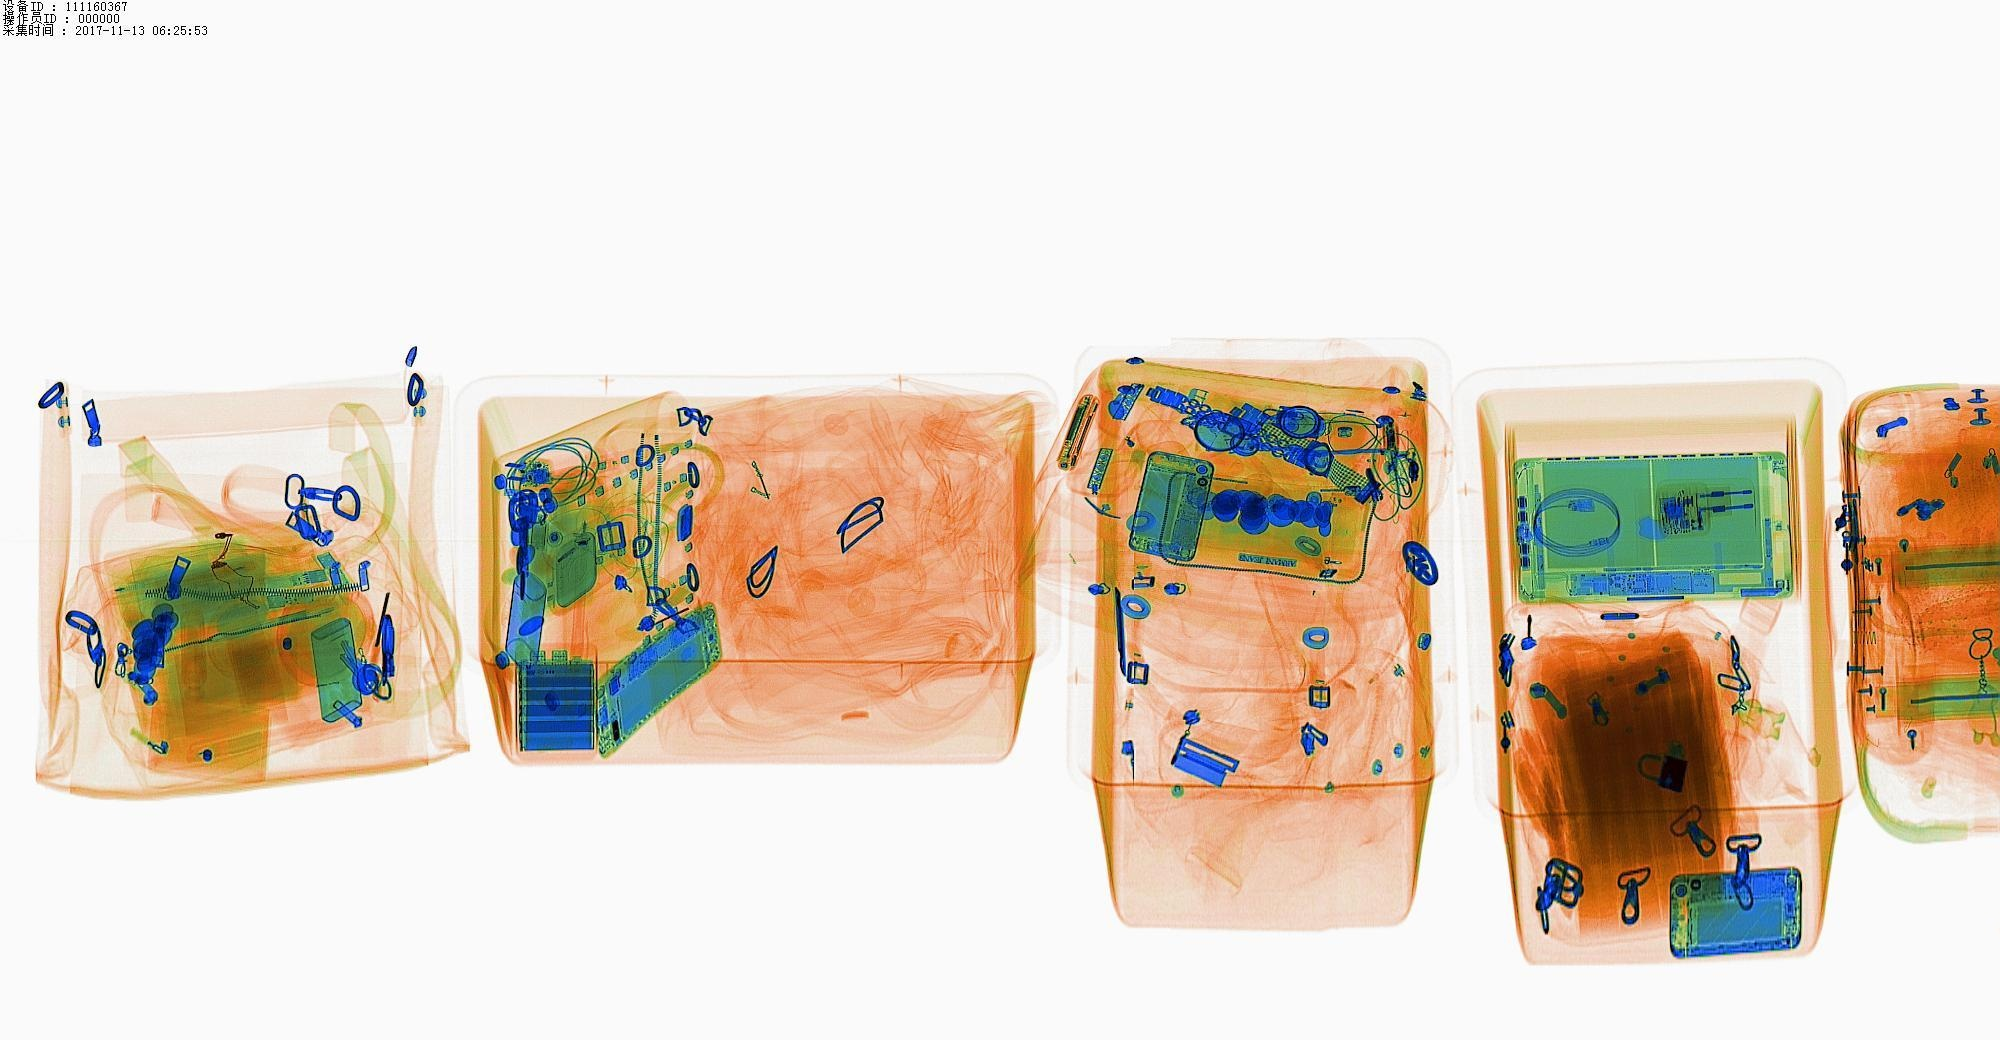core: (519, 648, 595, 750)
